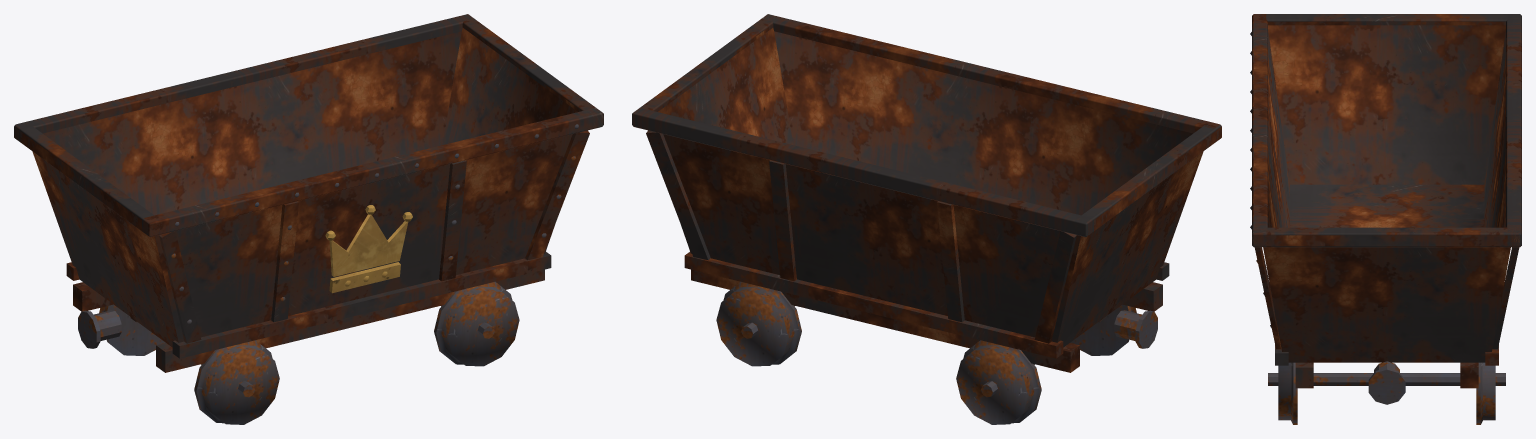
The model's file is Rail_Scrap_Wagon.glb.
The picture shows the model from 3 angles, left to right: view 1: azimuth 30°, elevation 25°; view 2: azimuth 150°, elevation 25°; view 3: azimuth 270°, elevation 25°; orthographic projection.
Parts seen in each view (by area): view 1: Rail_Scrap_Wagon; view 2: Rail_Scrap_Wagon; view 3: Rail_Scrap_Wagon.
Boxes of the visible parts, x1,y1,x2,y2 form: Rail_Scrap_Wagon: (14,14,603,424); Rail_Scrap_Wagon: (632,14,1221,424); Rail_Scrap_Wagon: (1250,14,1521,424).
Bounding box in the file's own units: 2.28 × 1.15 × 1.19.
Materials: 3 (3 with a texture image).
